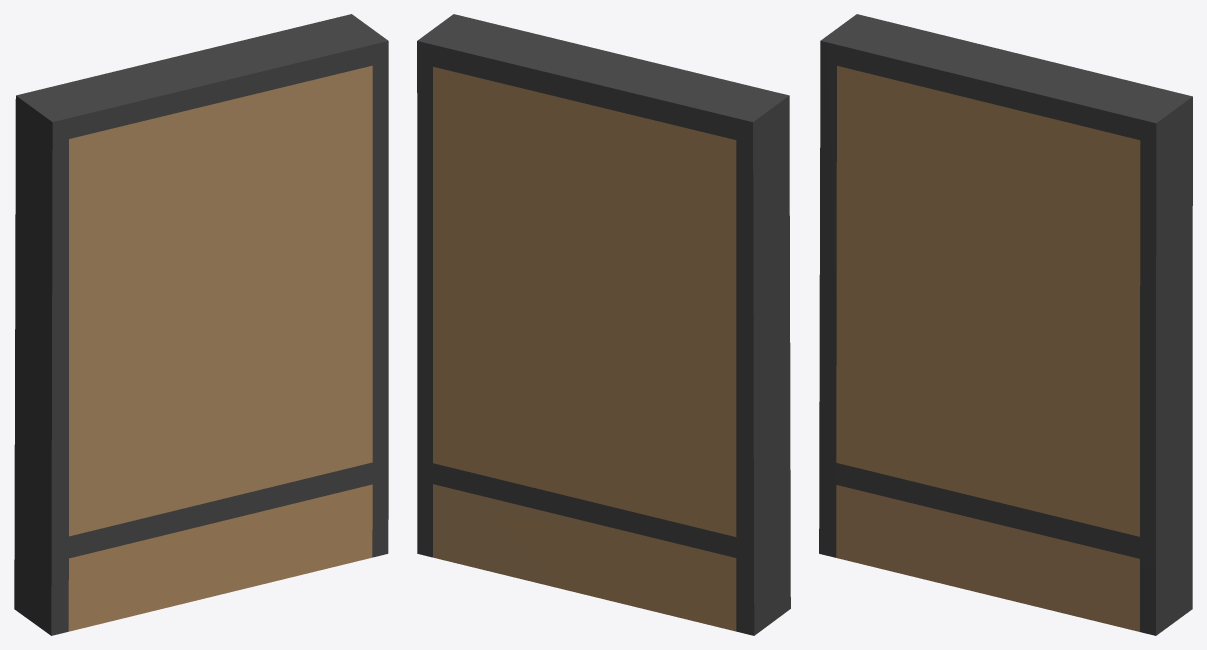
Rendered from StableDoor.glb.
3 renders of one model, left to right at view 1: azimuth 30°, elevation 25°; view 2: azimuth 150°, elevation 25°; view 3: azimuth 330°, elevation 25°, orthographic.
Parts seen in each view (by area): view 1: StableDoor1-NegY; view 2: StableDoor1-NegY; view 3: StableDoor1-NegY.
Part boxes in pixels (left/top/right/bottom): StableDoor1-NegY: left=14, top=14, right=388, bottom=635; StableDoor1-NegY: left=417, top=14, right=790, bottom=635; StableDoor1-NegY: left=819, top=14, right=1192, bottom=635.
Size of the model in its own units: 9.64 by 14.02 by 1.83.
